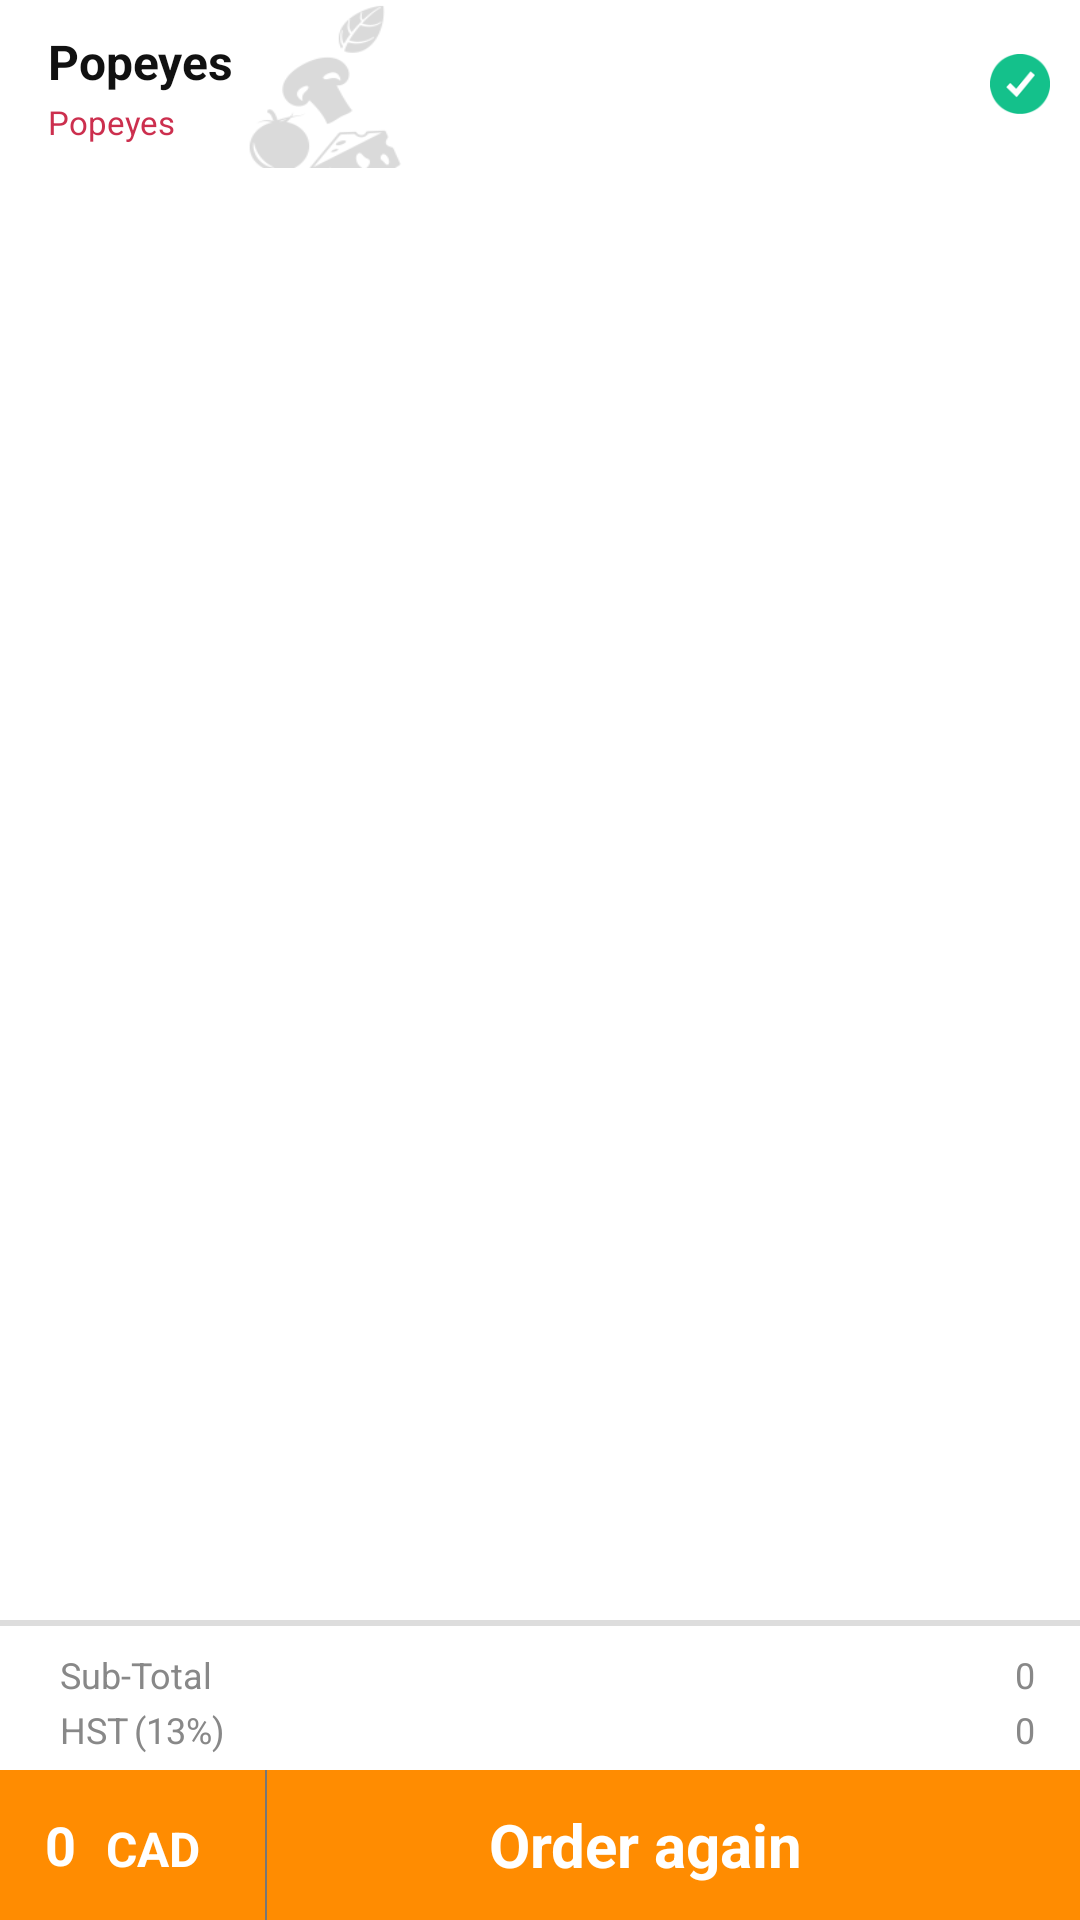

Named icons in this screenshot (1080 x 1920) and their bounding boxes, [x1,y1,x2,y2]:
tick: [990,54,1050,114]
